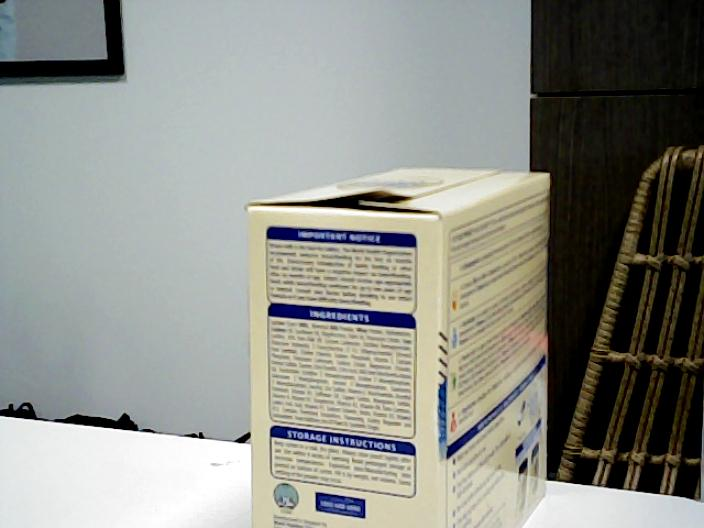Babymilk-powder_200-299g_Halal_NonHealthy: (258, 170, 544, 528)
